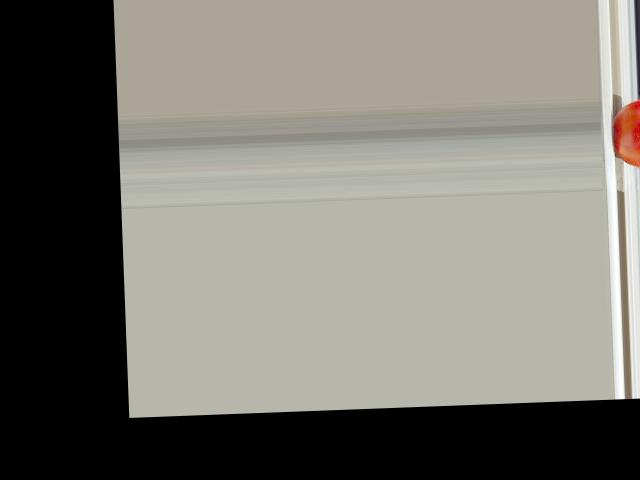tomato: (613, 97, 640, 173)
